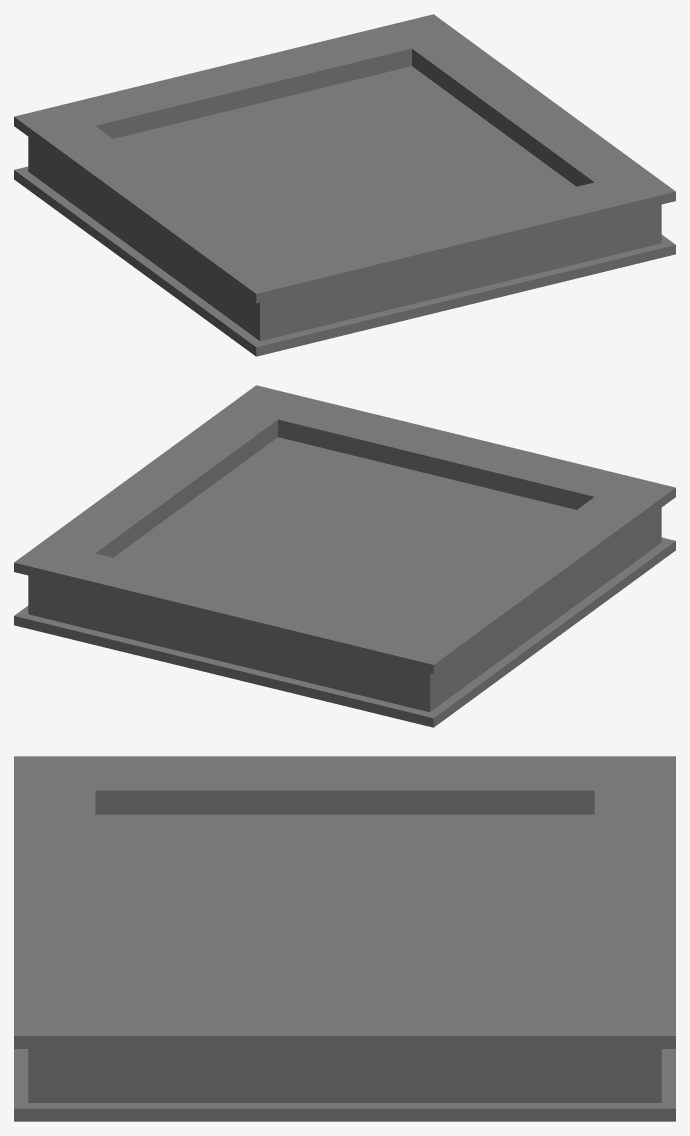
File: tesla_modules1_exterior_cap_02.dae
3 renders of one model, top to bottom at view 1: azimuth 30°, elevation 25°; view 2: azimuth 150°, elevation 25°; view 3: azimuth 270°, elevation 25°, orthographic. The views are drawn at different scales.
Visible parts, largest first — view 1: polySurface307; view 2: polySurface307; view 3: polySurface307.
Boxes of the visible parts, x1,y1,x2,y2 form: polySurface307: (14, 14, 675, 356); polySurface307: (14, 385, 675, 727); polySurface307: (14, 756, 675, 1121).
Bounding box in the file's own units: 7000 × 1000 × 7000.
